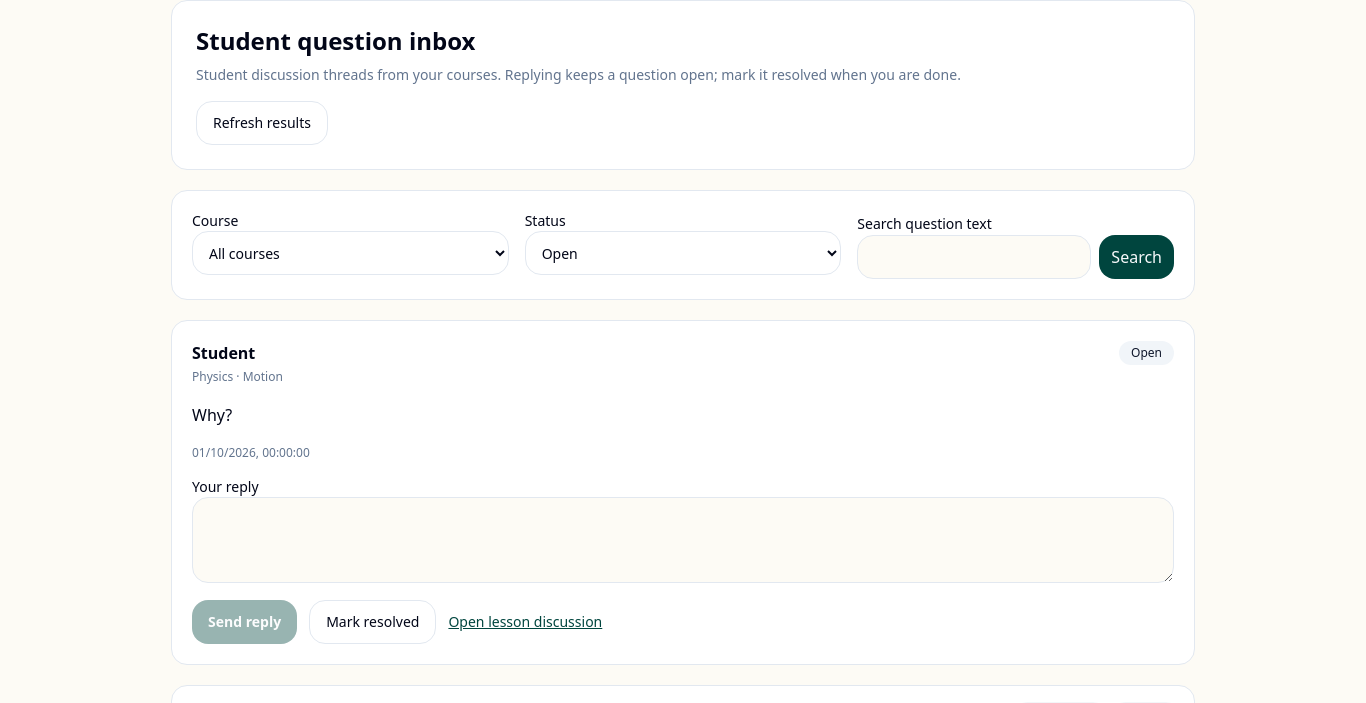
Test: teaching and assessment UI › retains the teacher reply draft when delivery fails
The width and height of the screenshot is (1366, 703).
Type "Here is why." into the text box labelled "Your reply" at (683, 540), box [192,497,1174,583]
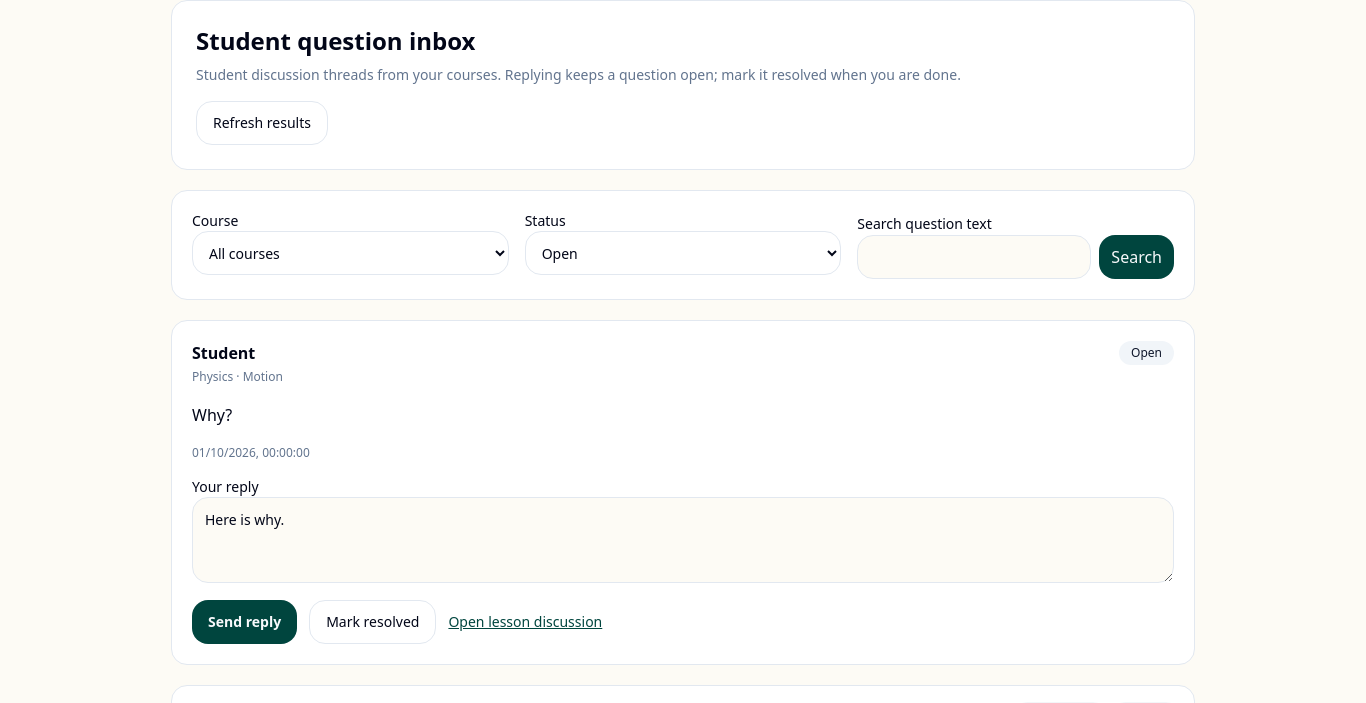
Click the button "Send reply" at (245, 622), box [192,600,297,644]
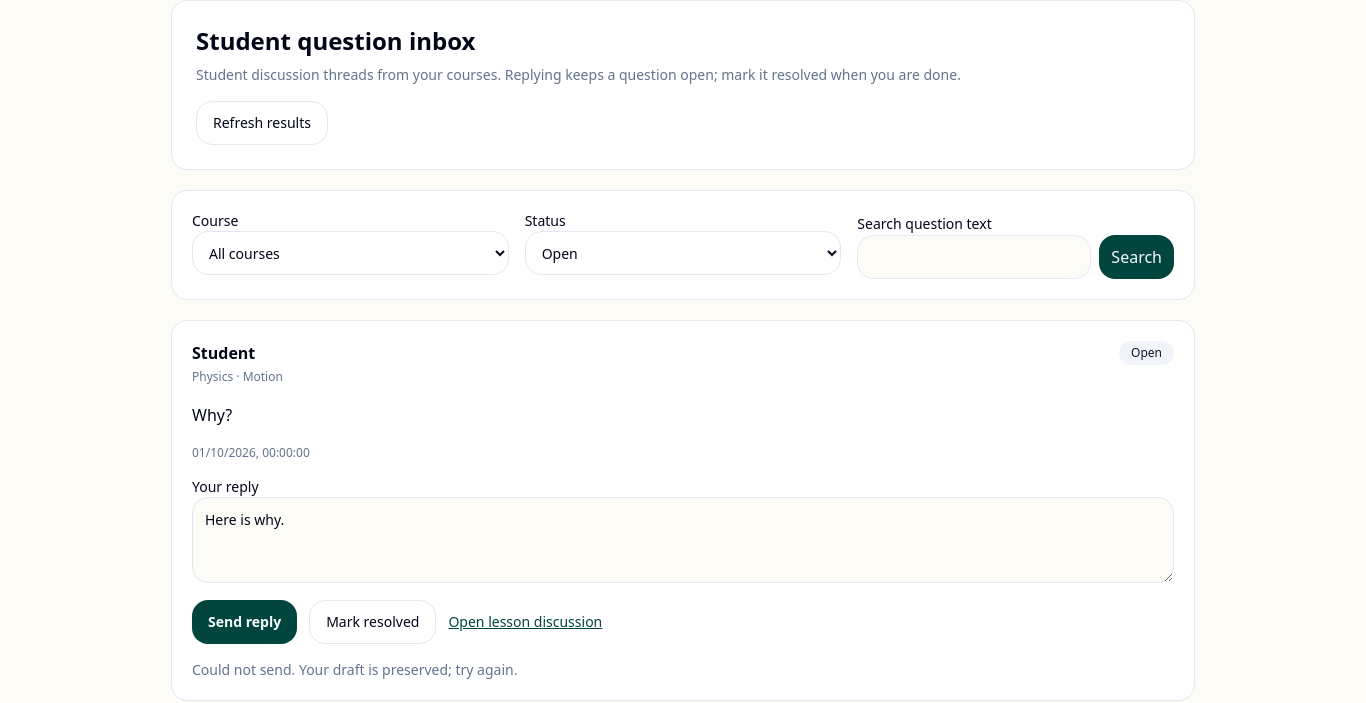
Expected: the text "Could not send. Your draft is preserved; try again." is shown, [192,660,518,679]
